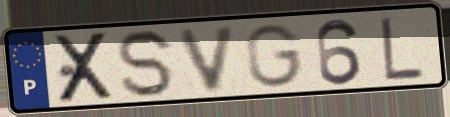6: (313, 15, 364, 87)
G: (243, 22, 306, 89)
L: (377, 14, 427, 82)
S: (115, 27, 178, 100)
V: (175, 22, 242, 95)
X: (52, 29, 118, 106)
